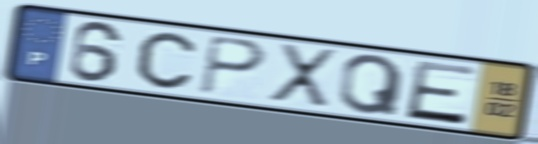6: (66, 20, 126, 84)
C: (134, 30, 199, 91)
E: (402, 58, 480, 128)
P: (198, 33, 270, 97)
Q: (337, 53, 407, 119)
X: (265, 41, 340, 112)
